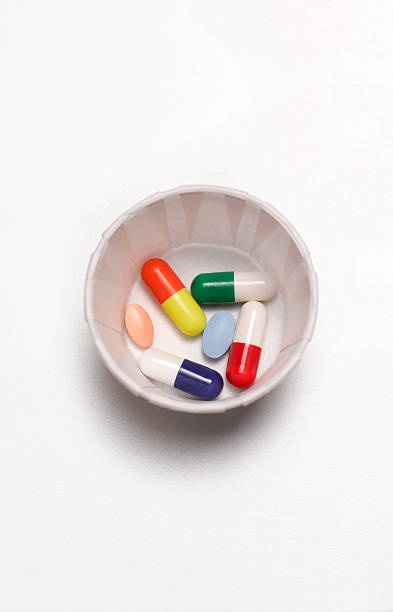pills: (133, 254, 202, 333), (136, 350, 220, 400), (231, 310, 279, 382), (192, 266, 273, 307)
